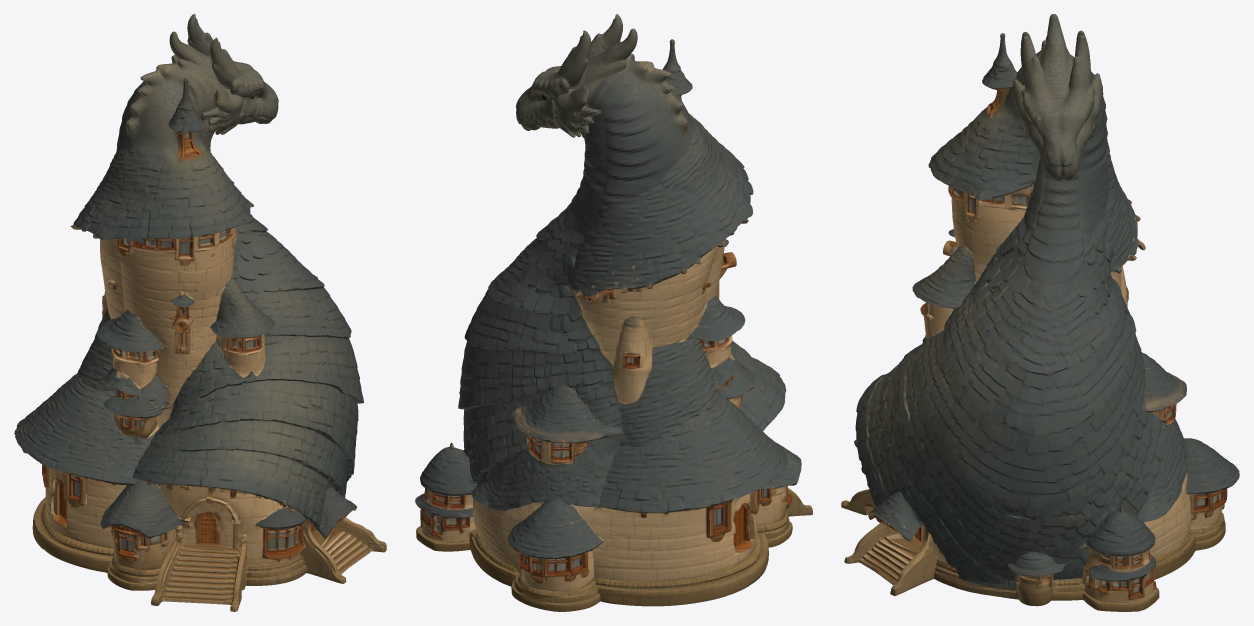
File: dragon-cafe.glb
The picture shows the model from 3 angles, left to right: view 1: azimuth 30°, elevation 25°; view 2: azimuth 150°, elevation 25°; view 3: azimuth 270°, elevation 25°; orthographic projection. The views are drawn at different scales.
Parts seen in each view (by area): view 1: temp; view 2: temp; view 3: temp.
Part boxes in pixels (<box>): temp: <box>14,14,386,611</box>; temp: <box>415,14,812,611</box>; temp: <box>841,14,1239,611</box>.
Bounding box in the file's own units: 4.89 × 7.48 × 5.26.
1 material, 1 textured.
